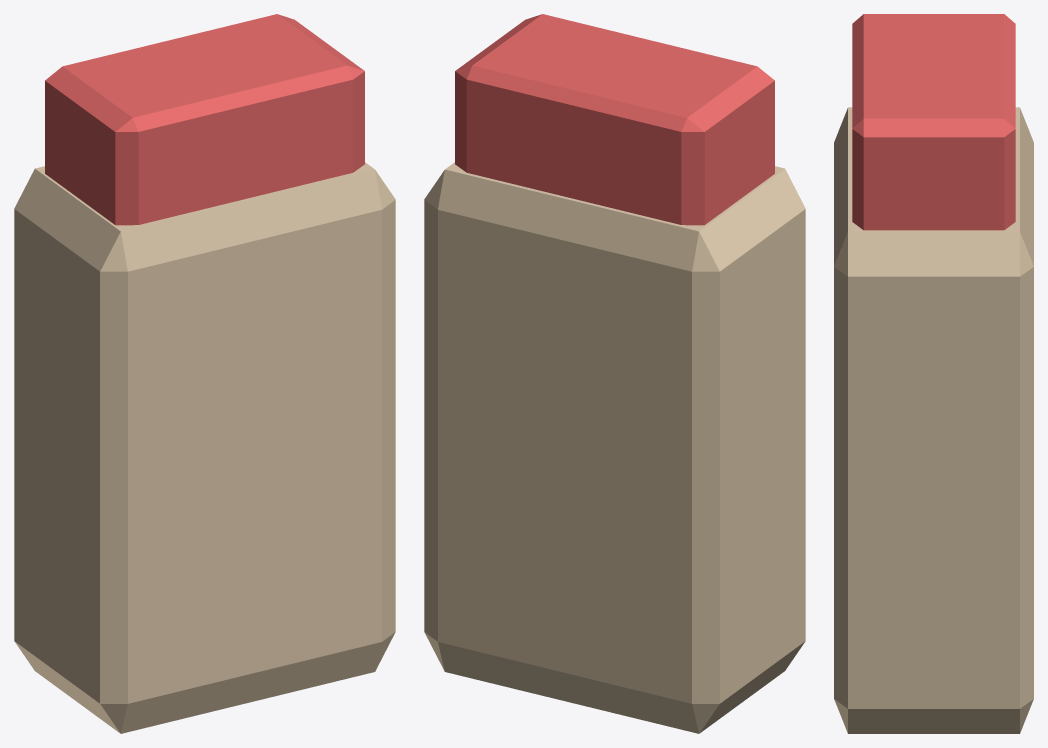
File: b16_paper_takeaway_bag.glb
3 views of the same model, side by side, from view 1: azimuth 30°, elevation 25°; view 2: azimuth 150°, elevation 25°; view 3: azimuth 270°, elevation 25° (orthographic).
Parts seen in each view (by area): view 1: b16_paper_takeaway_bag; view 2: b16_paper_takeaway_bag; view 3: b16_paper_takeaway_bag.
Part boxes in pixels (x1,y1,x2,y2): b16_paper_takeaway_bag: (14, 14, 395, 733); b16_paper_takeaway_bag: (424, 14, 805, 733); b16_paper_takeaway_bag: (834, 14, 1033, 733).
Size of the model in its own units: 0.14 by 0.274 by 0.082.
